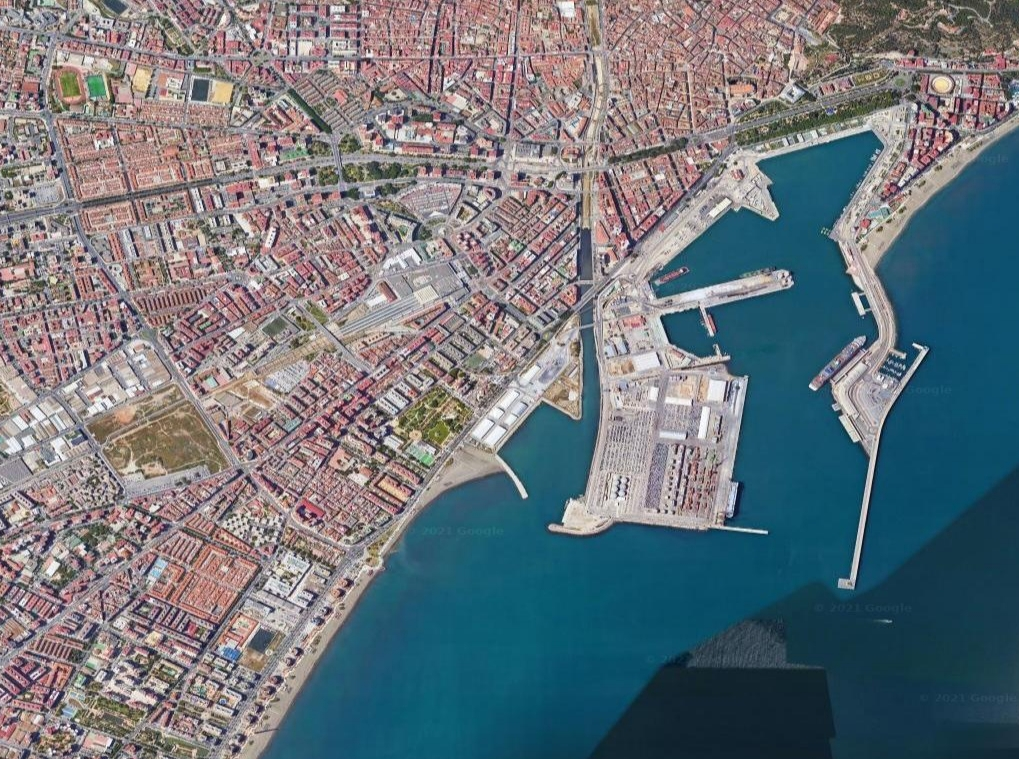harbor: (487, 109, 951, 603)
industrial: (8, 339, 156, 468)
